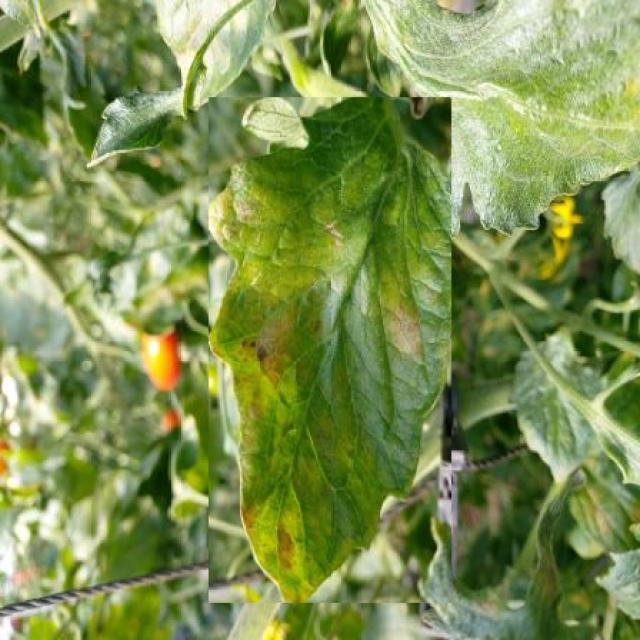Leaf Mold: (208, 98, 452, 603)
